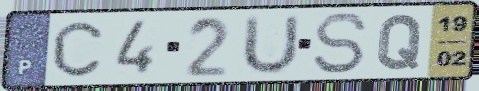2: (182, 14, 234, 78)
4: (113, 18, 159, 78)
C: (50, 19, 106, 79)
Q: (374, 12, 426, 72)
S: (310, 10, 371, 76)
U: (237, 12, 302, 78)
